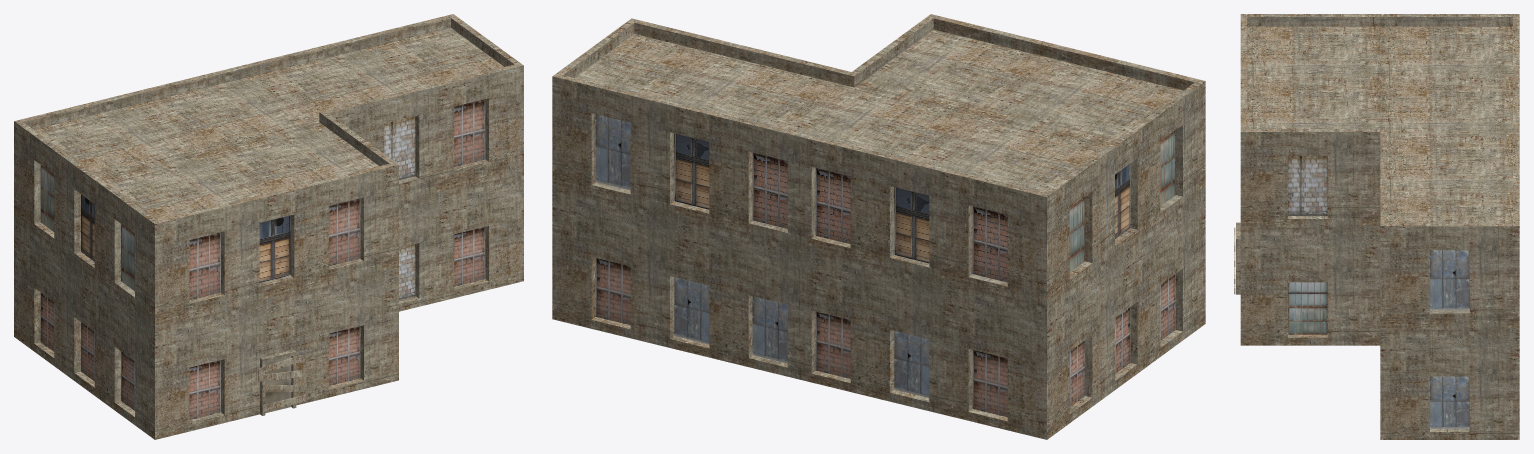
The model's file is building_08.fbx.
The picture shows the model from 3 angles, left to right: view 1: azimuth 30°, elevation 25°; view 2: azimuth 150°, elevation 25°; view 3: azimuth 270°, elevation 25°; orthographic projection. The views are drawn at different scales.
Visible parts, largest first — view 1: building_08; view 2: building_08; view 3: building_08.
Part boxes in pixels (x1,y1,x2,y2): building_08: [14, 14, 523, 439]; building_08: [552, 14, 1205, 439]; building_08: [1234, 14, 1519, 439].
Size of the model in its own units: 20.24 by 9.49 by 11.5.
